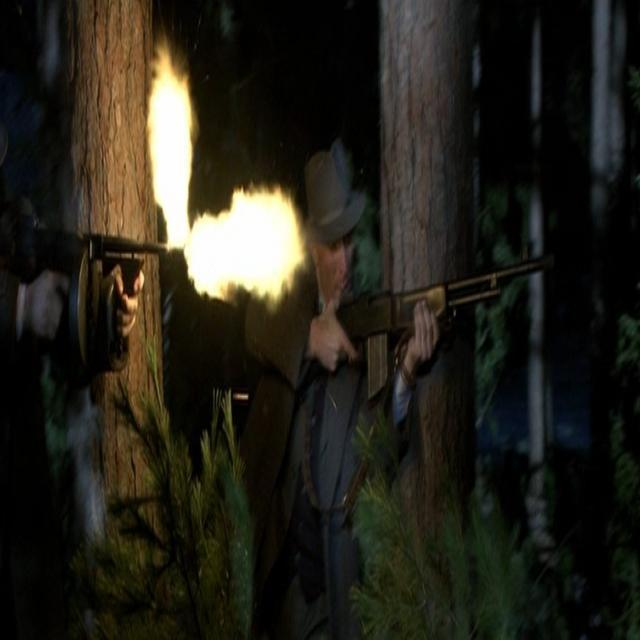gun-knife-thesis - v11 Yolov5 augmented: (302, 238, 554, 467)
